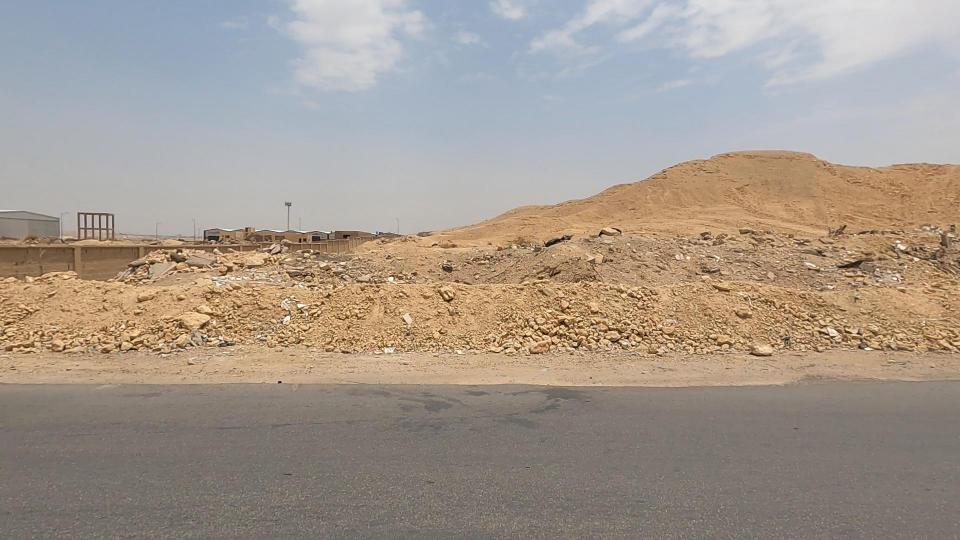SAND_ON_ROAD: (464, 200, 910, 395), (0, 235, 415, 389), (288, 222, 613, 377)
